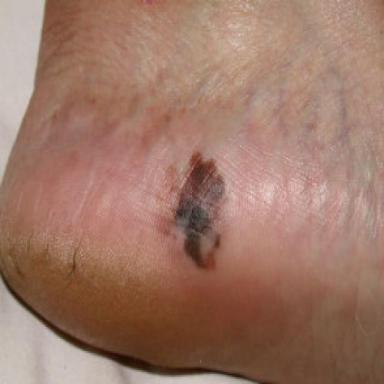Melanoma: (157, 152, 225, 268)
